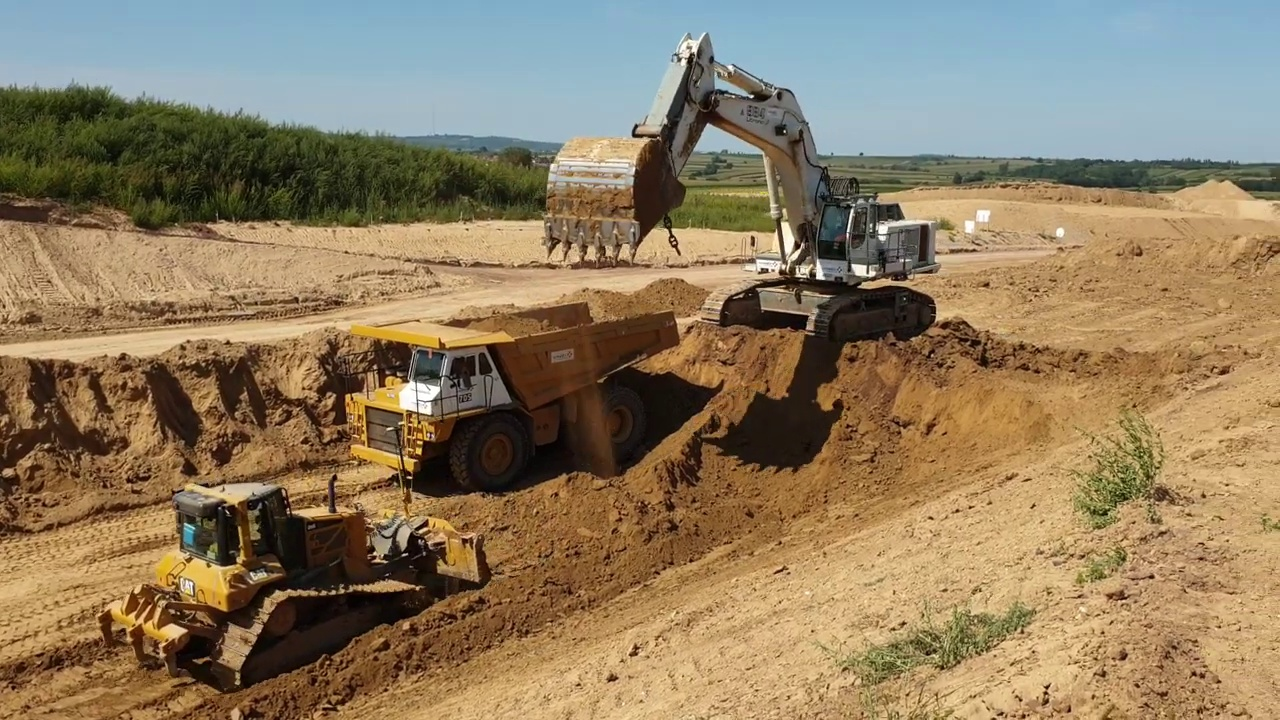bulldozer: (91, 420, 498, 695)
excavator: (535, 26, 946, 347)
truck: (330, 295, 691, 500)
